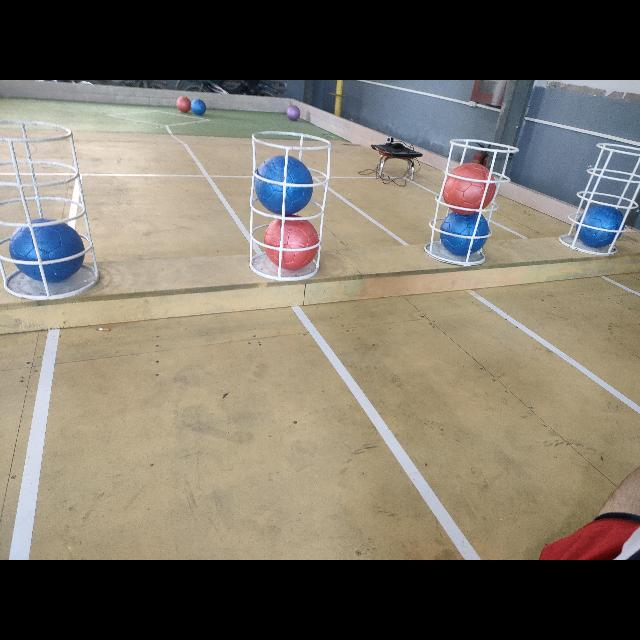B: (8, 218, 84, 284), (254, 155, 314, 215), (439, 210, 488, 256), (577, 205, 625, 248), (192, 99, 206, 115)
R: (264, 215, 318, 271), (442, 163, 496, 215), (177, 96, 191, 112)
